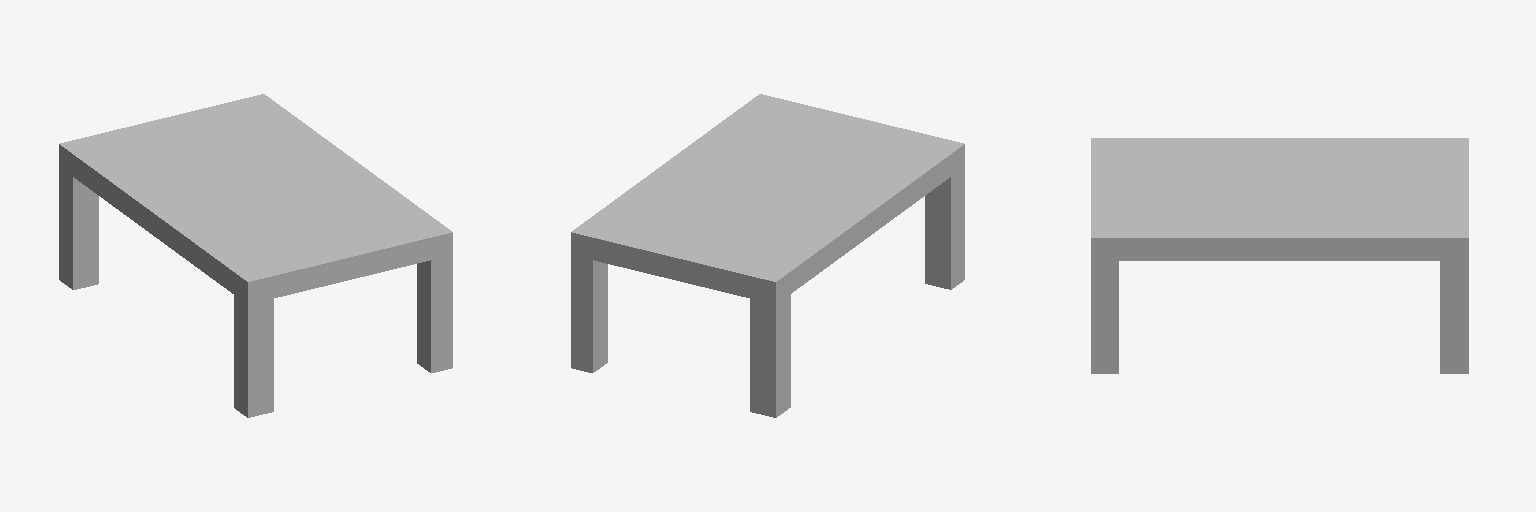
Rendered from table.obj.
3 renders of one model, left to right at view 1: azimuth 30°, elevation 25°; view 2: azimuth 150°, elevation 25°; view 3: azimuth 270°, elevation 25°, orthographic.
Parts seen in each view (by area): view 1: Cube_Cube.001; view 2: Cube_Cube.001; view 3: Cube_Cube.001.
Boxes of the visible parts, x1=… form: Cube_Cube.001: x1=59, y1=94, x2=452, y2=417; Cube_Cube.001: x1=571, y1=94, x2=964, y2=417; Cube_Cube.001: x1=1091, y1=138, x2=1468, y2=373.
Size of the model in its own units: 2 by 1.27 by 3.19.